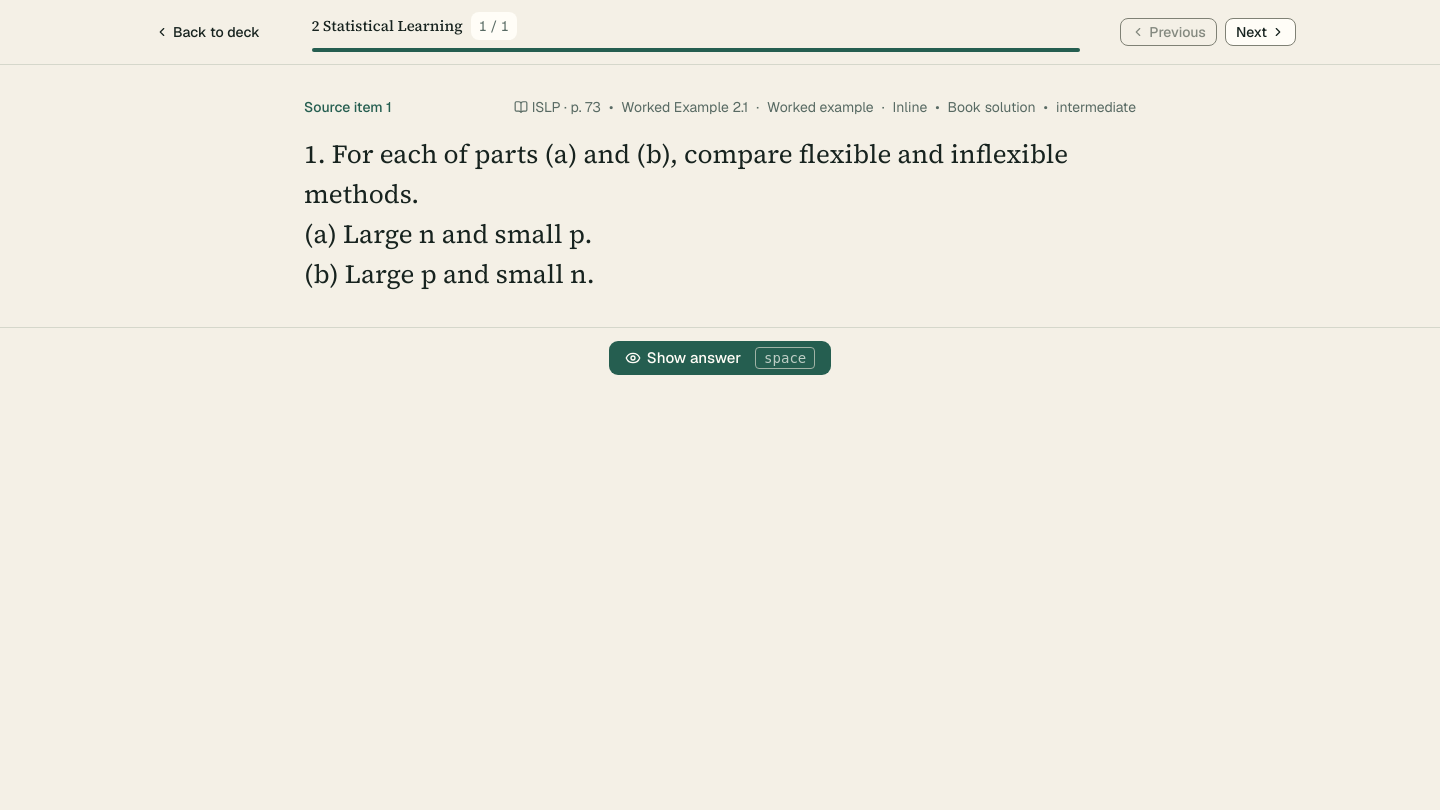
Scenario: focused deck review › separates source-authored question and solution provenance
This screenshot has width=1440, height=810.
Expected: the text "Worked Example 2.1" is shown, 621,97 -> 748,118
Expected: the text "Worked example" is shown, 767,97 -> 874,118
Click the button "Show answer space" at (720, 358), box 608,340 -> 832,376
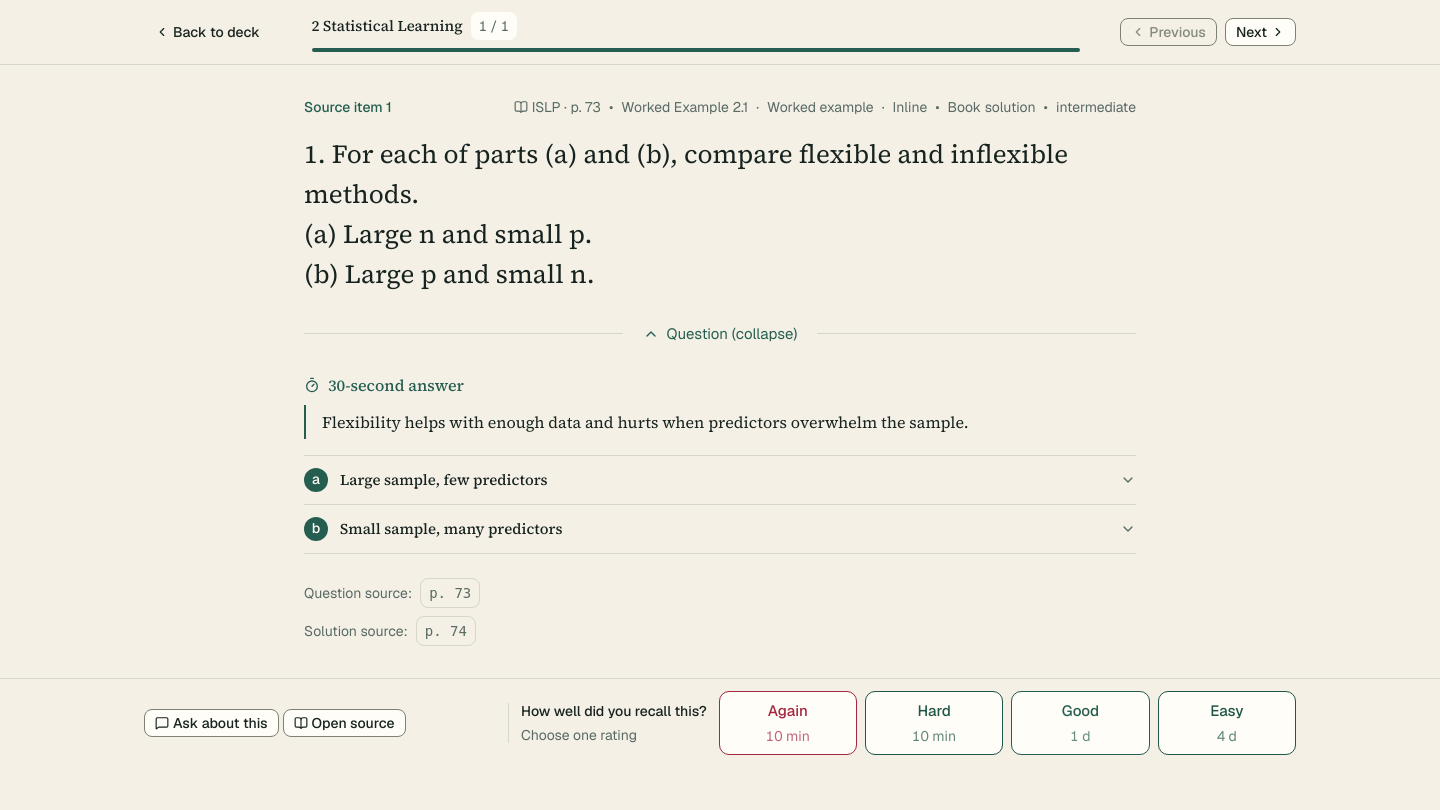
Expected: the button named "Question source: p. 73" is shown, 420,578 -> 480,608
Expected: the button named "Solution source: p. 74" is shown, 416,616 -> 476,646
